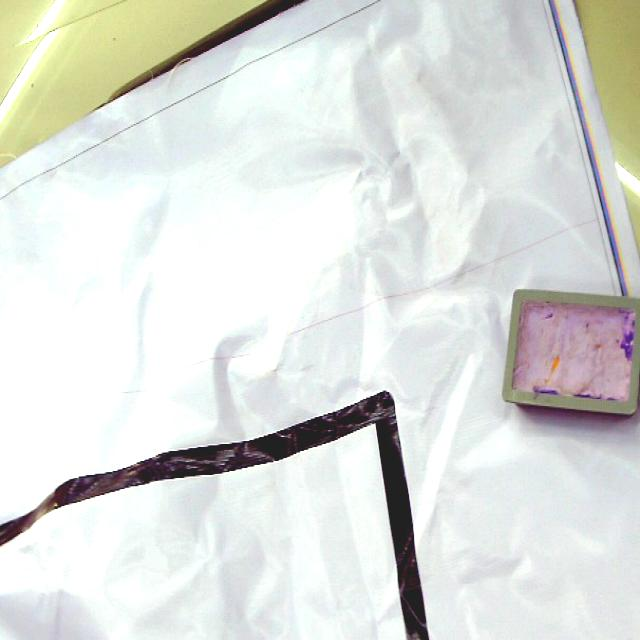block: (497, 286, 640, 416)
